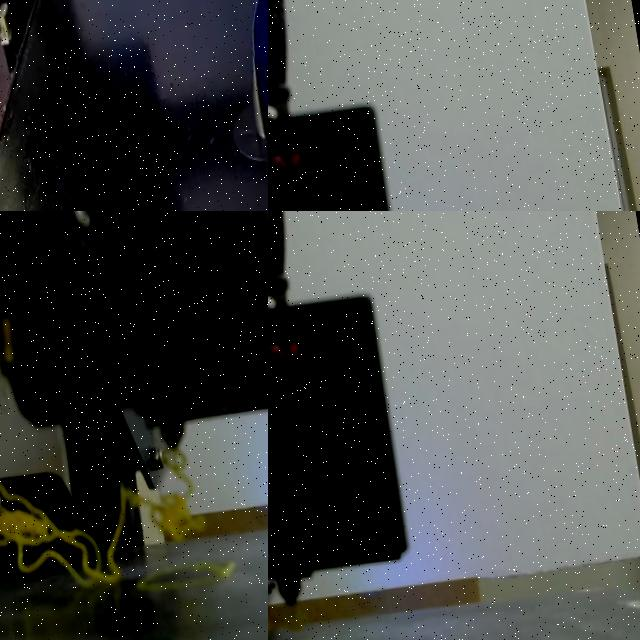spaghetti: (0, 449, 207, 587)
